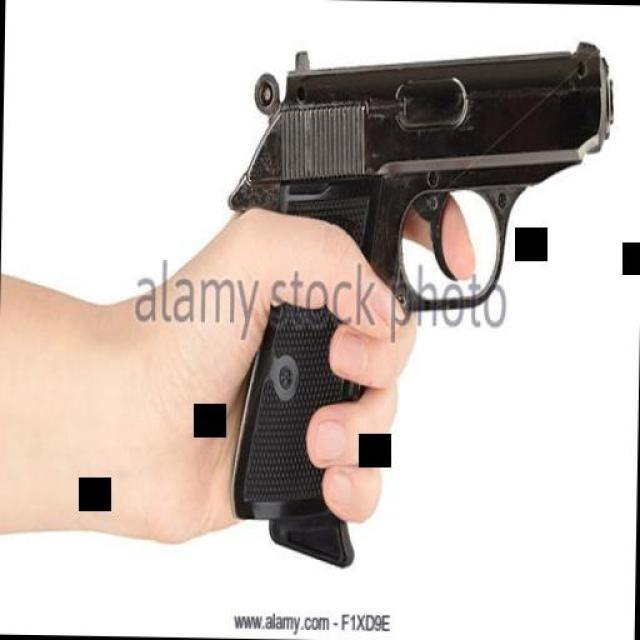gun: (217, 35, 618, 555)
